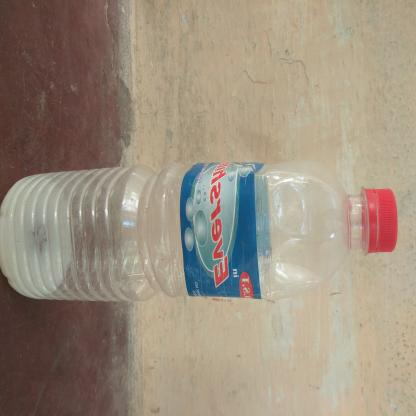bottle: (225, 22, 332, 416)
